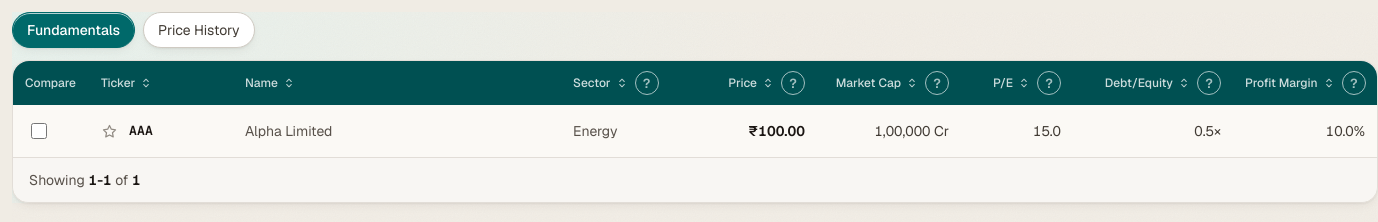
Test case: StockTable — price history view › switches the columns to the weekly-close metrics, labelled as such, and renders n/a for missing ones
Click the button "Price History". click: (199, 30)
box: [143,12,255,48]
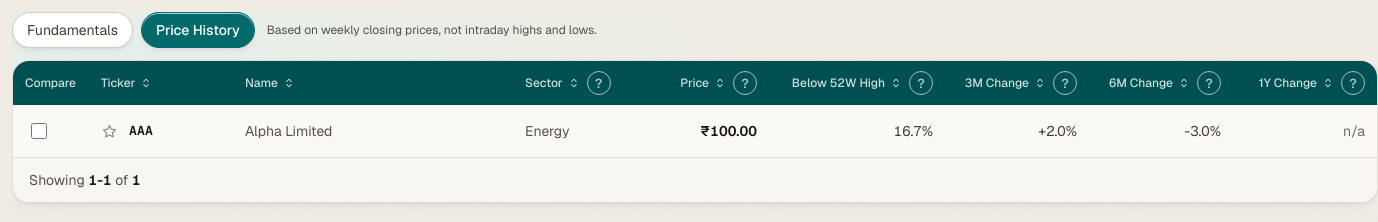
Expected: the text "Based on weekly closing prices" is shown, [267,22,597,38]
Expected: the row "AAA Alpha Limited Energy ₹100.00 16.7% +2.0% -3.0% n/a" is shown, [13,105,1377,157]
